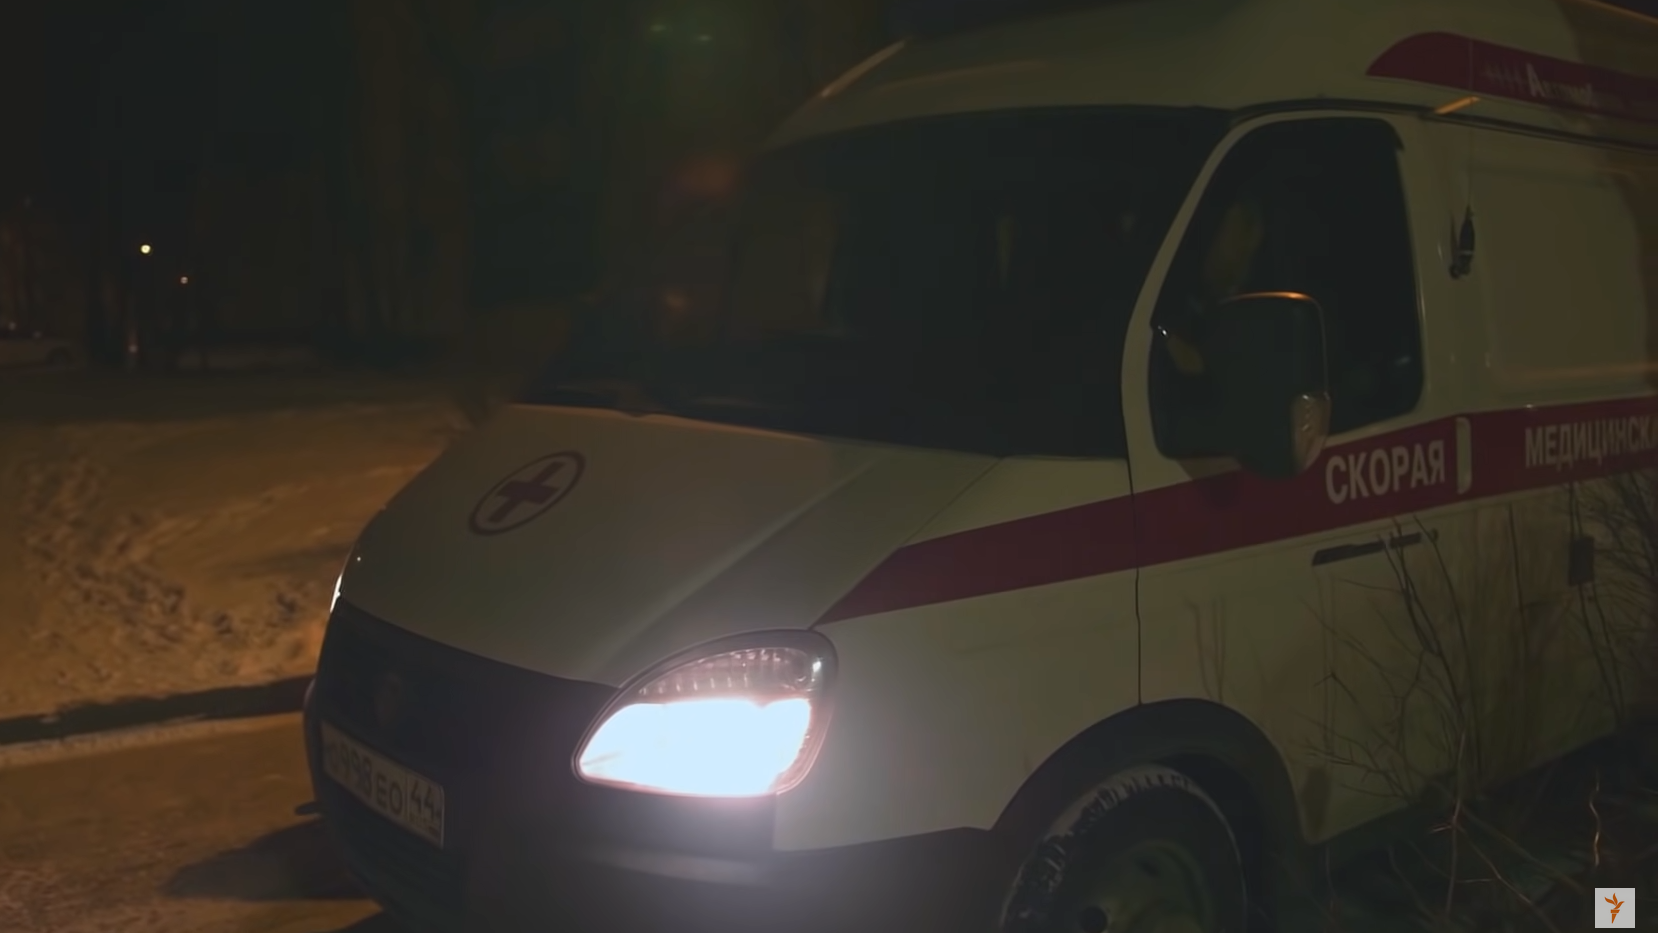ambulance: (295, 0, 1658, 933)
